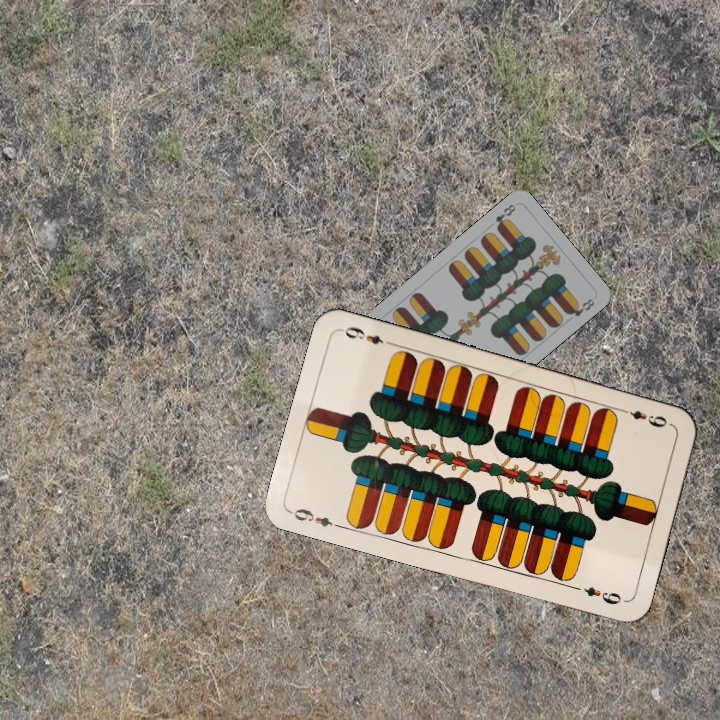E8: (491, 200, 519, 233)
E9: (287, 504, 345, 531), (616, 404, 670, 430)
